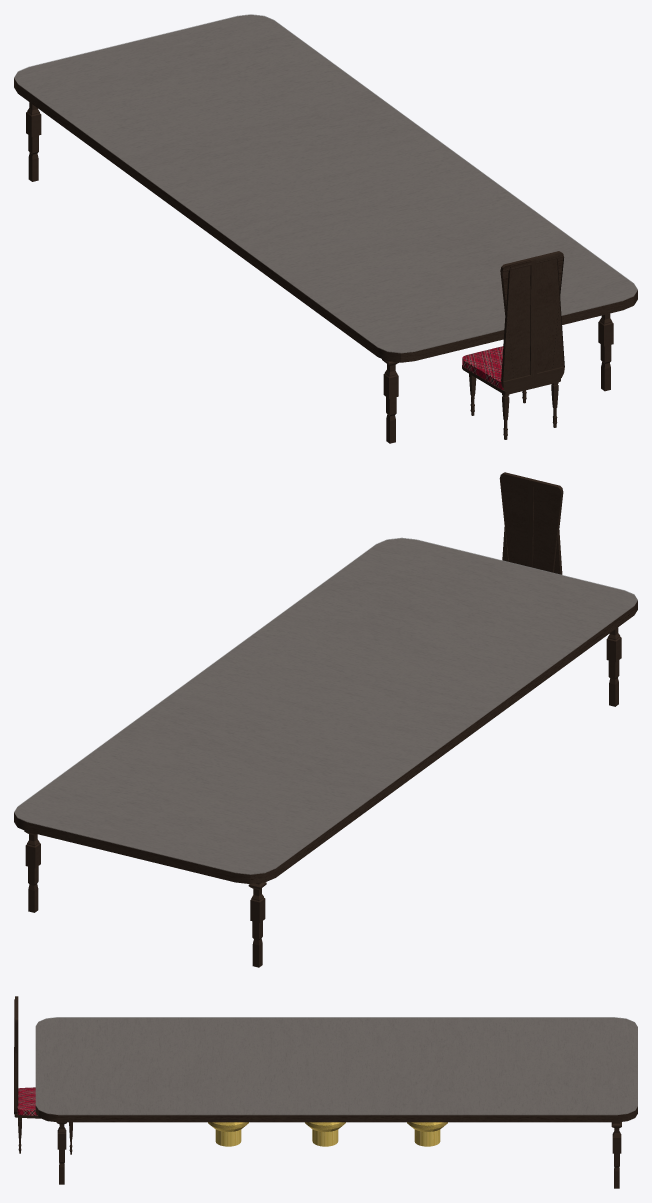
The model's file is Dinning tabel.fbx.
The picture shows the model from 3 angles, top to bottom: view 1: azimuth 30°, elevation 25°; view 2: azimuth 150°, elevation 25°; view 3: azimuth 270°, elevation 25°; orthographic projection. The views are drawn at different scales.
Parts seen in each view (by area): view 1: pCube1299, pCube1300, pCube1311, pCube1312, pCube1317, pCube1318, pCube1301, pCube1313; view 2: pCube1299, pCube1300, pCube1313, pCube1318, pCube1319, pCube1317; view 3: pCube1299, pCube1300, pCylinder240, pCylinder242, pCylinder241, pCube1312, pCube1319, pCube1301, pCube1313.
Part boxes in pixels (x1,y1,x2,y2): pCube1299: (14,15,637,362); pCube1300: (14,14,637,353); pCube1311: (501,254,564,391); pCube1312: (462,346,503,389); pCube1317: (382,359,398,443); pCube1318: (26,102,41,181); pCube1301: (598,313,613,391); pCube1313: (500,251,564,377); pCube1299: (14,538,637,883); pCube1300: (14,537,637,874); pCube1313: (499,472,563,572); pCube1318: (248,882,266,967); pCube1319: (24,830,40,912); pCube1317: (606,627,621,706); pCube1299: (35,1017,637,1122); pCube1300: (35,1017,637,1115); pCylinder240: (305,1122,345,1146); pCylinder242: (407,1122,447,1146); pCylinder241: (208,1122,248,1146); pCube1312: (17,1087,37,1115); pCube1319: (611,1122,621,1188); pCube1301: (56,1122,66,1184); pCube1313: (15,996,18,1110).
Size of the model in its own units: 546 by 359 by 1475.
